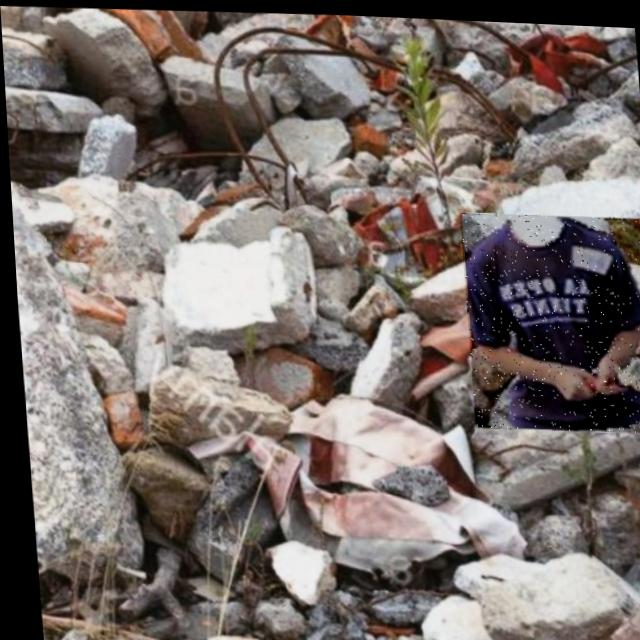Person in Rubble: (456, 205, 640, 430)
